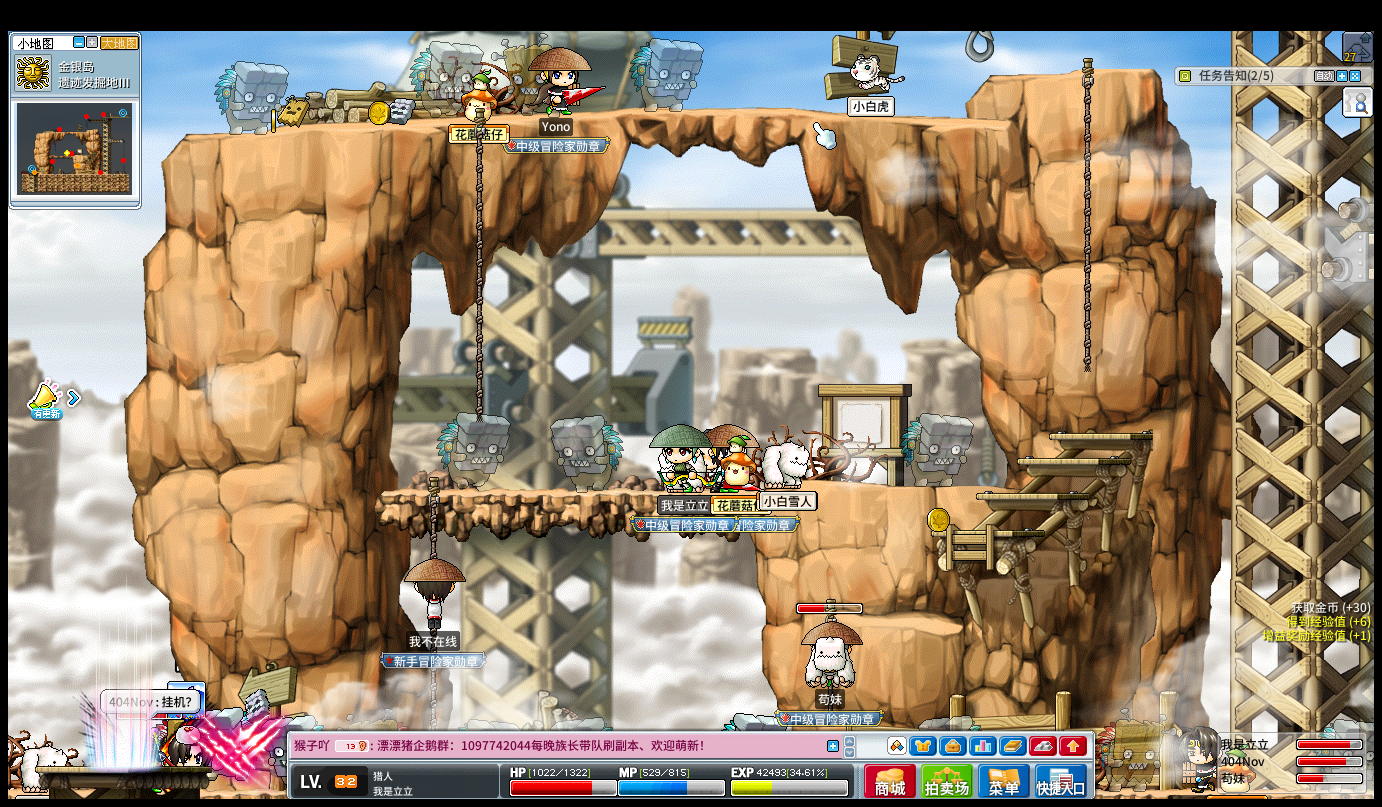floor: (170, 105, 1024, 135), (378, 487, 763, 499), (855, 612, 963, 634), (986, 65, 1157, 78), (846, 482, 1014, 492), (1048, 429, 1153, 441), (1011, 456, 1128, 465), (973, 491, 1086, 499), (932, 528, 1044, 536), (977, 492, 1089, 500)
monster: (1096, 711, 1182, 792), (436, 411, 509, 490), (630, 35, 704, 112), (551, 414, 624, 492), (214, 60, 289, 135), (409, 36, 477, 118), (900, 412, 972, 486)
rope: (1080, 53, 1094, 369), (473, 112, 484, 417), (1080, 265, 1091, 369), (425, 478, 439, 558)
